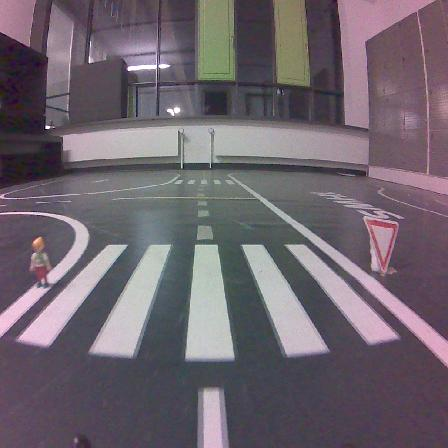CHILD: (30, 237, 51, 286)
GIVE_WAY: (364, 216, 398, 273)
